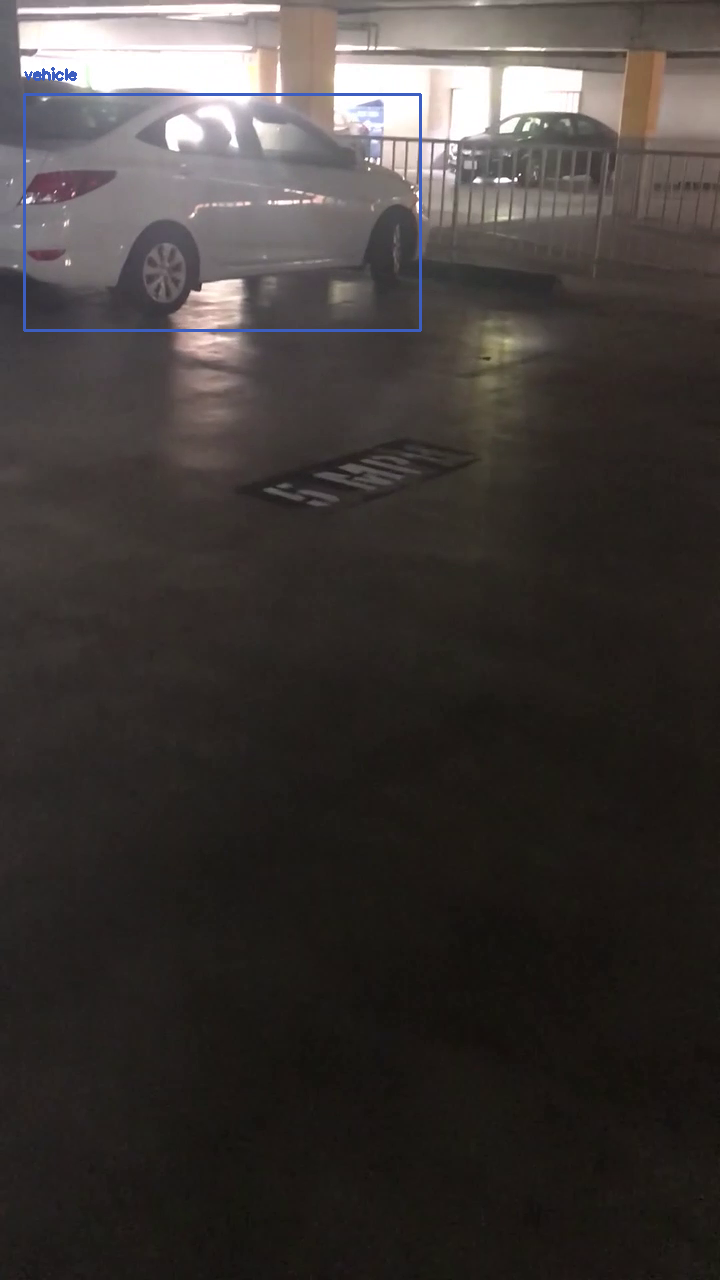vehicle: (24, 94, 420, 330)
